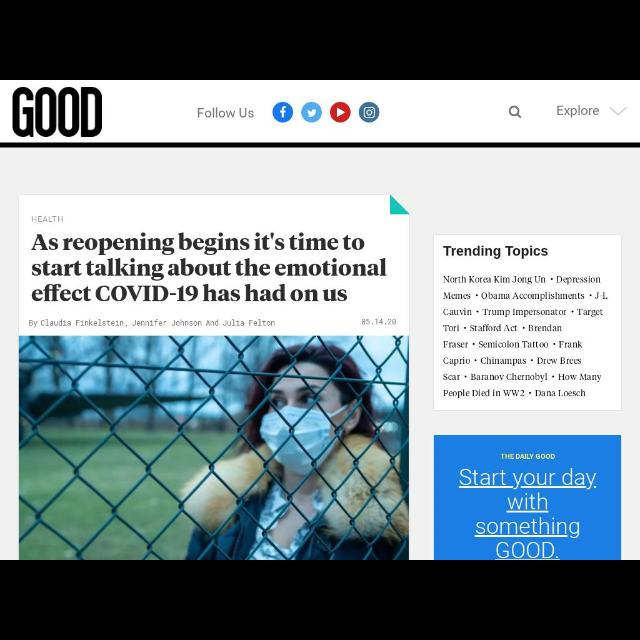icon: (509, 105, 523, 118), (609, 106, 627, 115)
image: (19, 336, 409, 558), (358, 102, 380, 124), (272, 102, 294, 122), (329, 102, 351, 122), (302, 102, 322, 122)
spinner: (557, 105, 627, 117)
text: (31, 234, 387, 302), (444, 276, 608, 398), (458, 469, 598, 559), (12, 86, 102, 138), (29, 319, 275, 326), (442, 246, 548, 258), (197, 107, 255, 119), (557, 106, 599, 118), (500, 454, 556, 460), (31, 215, 63, 222), (362, 318, 396, 324)
